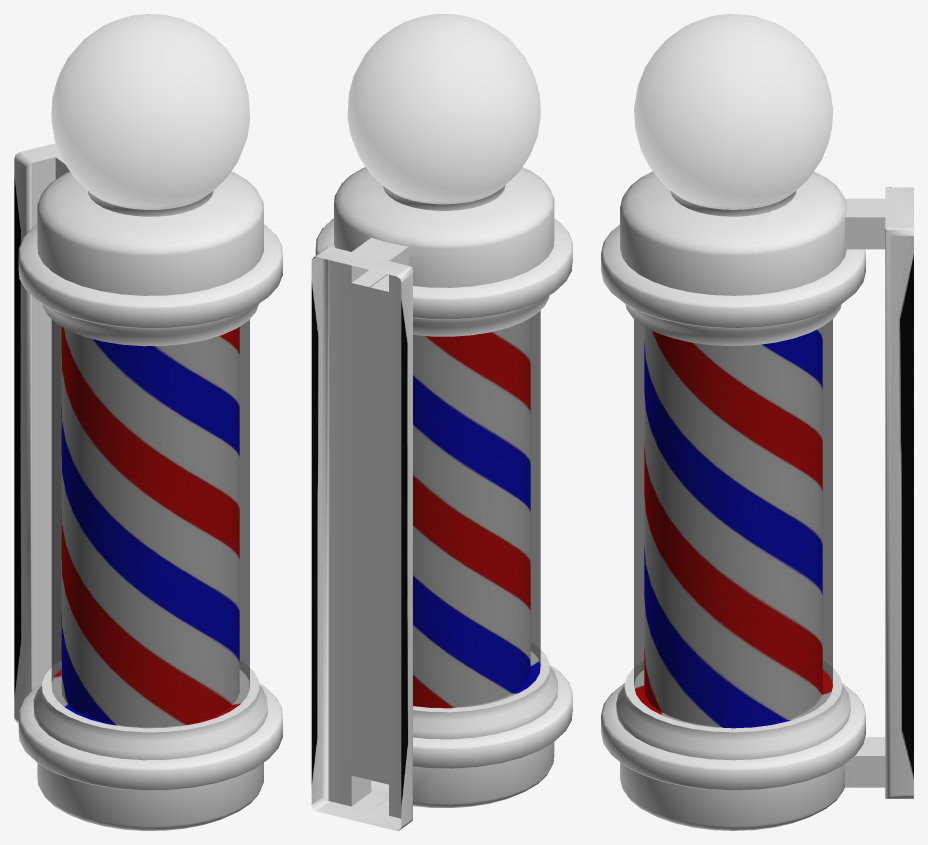
Rendered from barber_pole.glb.
3 renders of one model, left to right at view 1: azimuth 30°, elevation 25°; view 2: azimuth 150°, elevation 25°; view 3: azimuth 270°, elevation 25°, orthographic. The views are drawn at different scales.
Visible parts, largest first — view 1: barber_pole; view 2: barber_pole; view 3: barber_pole.
Boxes of the visible parts, bbox=[...] form: barber_pole: bbox=[14, 14, 282, 830]; barber_pole: bbox=[311, 14, 572, 830]; barber_pole: bbox=[601, 14, 913, 830].
Bounding box in the file's own units: 0.2473 × 0.8 × 0.292.
Materials: 4 (4 with a texture image).
